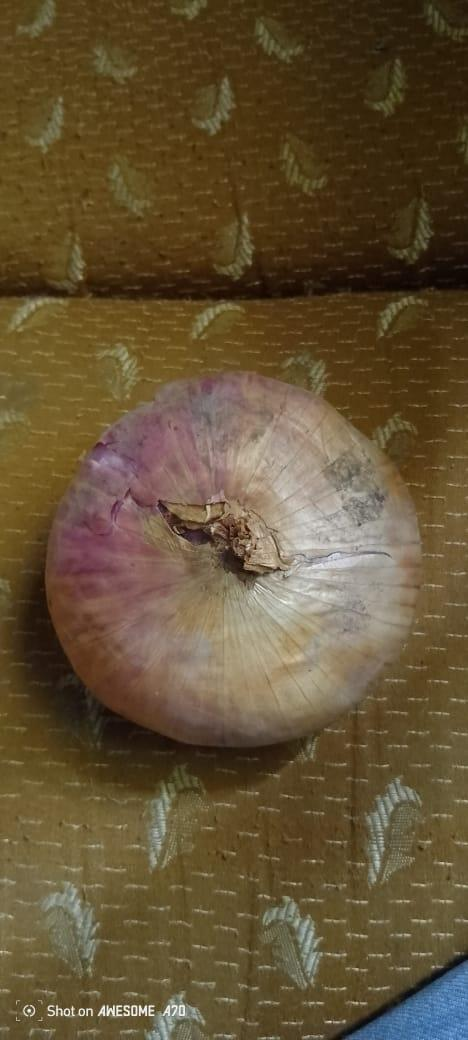non-mango: (47, 371, 418, 752)
